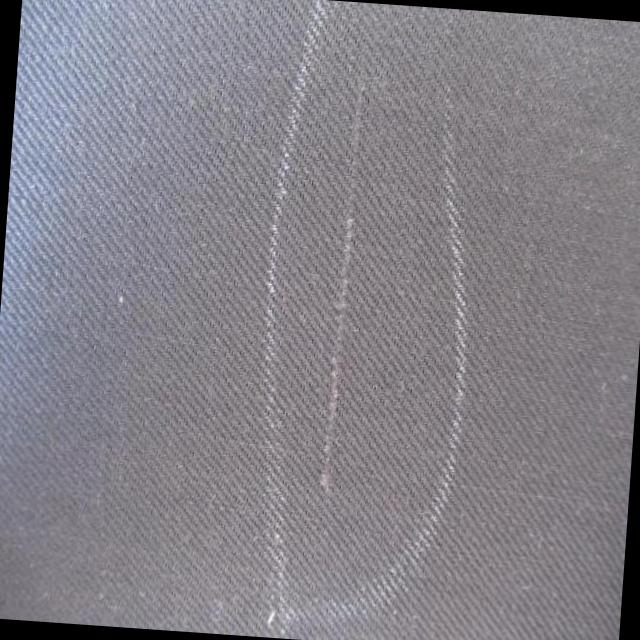Stain: (338, 72, 490, 622), (236, 0, 334, 637)
Warp_Weft: (316, 83, 368, 496)
